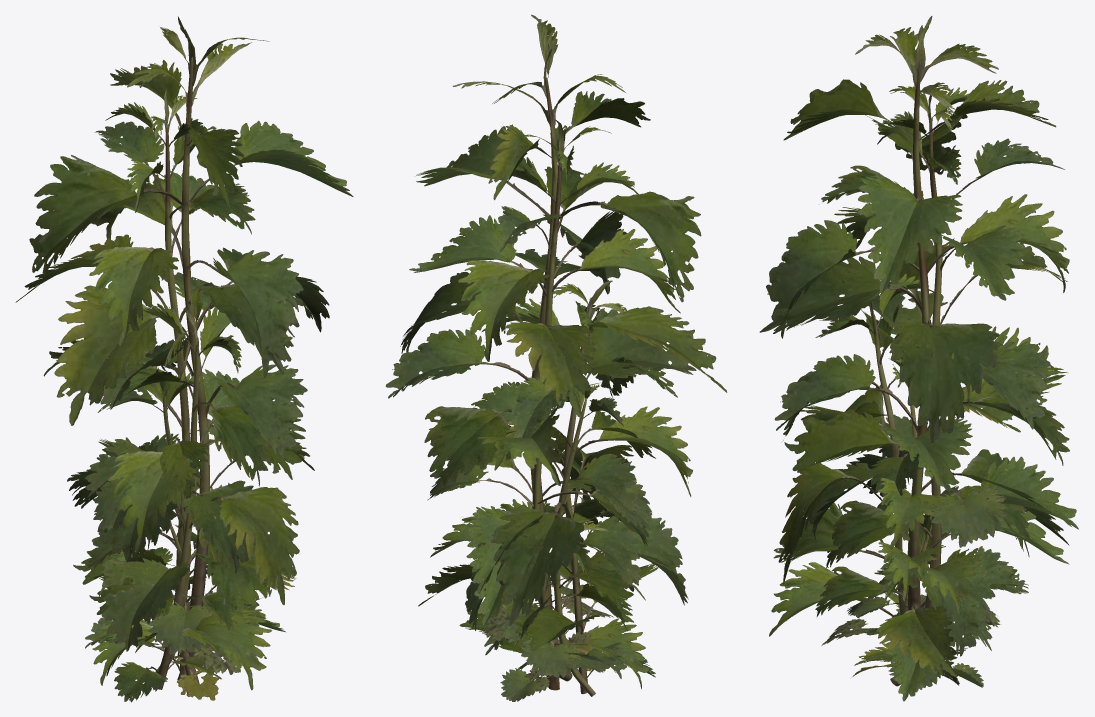
File: nettle-clump.glb
3 views of the same model, side by side, from view 1: azimuth 30°, elevation 25°; view 2: azimuth 150°, elevation 25°; view 3: azimuth 270°, elevation 25° (orthographic). The views are drawn at different scales.
Parts seen in each view (by area): view 1: nettle-clump_tall_a, nettle-clump_medium_a, nettle-clump_tall_b, nettle-clump_medium_b, nettle-clump_small_a, nettle-clump_small_b; view 2: nettle-clump_tall_a, nettle-clump_tall_b, nettle-clump_medium_a, nettle-clump_medium_b, nettle-clump_small_a, nettle-clump_small_b; view 3: nettle-clump_tall_a, nettle-clump_tall_b, nettle-clump_medium_a, nettle-clump_medium_b, nettle-clump_small_a, nettle-clump_small_b.
Part boxes in pixels (x1,y1,x2,y2): nettle-clump_tall_a: [29, 16, 353, 679]; nettle-clump_medium_a: [67, 286, 299, 702]; nettle-clump_tall_b: [15, 89, 305, 683]; nettle-clump_medium_b: [88, 366, 259, 672]; nettle-clump_small_a: [92, 506, 285, 700]; nettle-clump_small_b: [85, 591, 262, 679]; nettle-clump_tall_a: [400, 14, 727, 690]; nettle-clump_tall_b: [385, 119, 696, 681]; nettle-clump_medium_a: [429, 280, 692, 693]; nettle-clump_medium_b: [468, 382, 655, 696]; nettle-clump_small_a: [465, 500, 649, 695]; nettle-clump_small_b: [459, 609, 626, 701]; nettle-clump_tall_a: [766, 16, 1069, 676]; nettle-clump_tall_b: [759, 86, 1078, 686]; nettle-clump_medium_a: [769, 273, 1069, 692]; nettle-clump_medium_b: [808, 358, 1029, 663]; nettle-clump_small_a: [847, 514, 992, 701]; nettle-clump_small_b: [854, 594, 983, 687].
Size of the model in its own units: 0.1036 by 0.2168 by 0.0947.
1 material, 1 textured.
